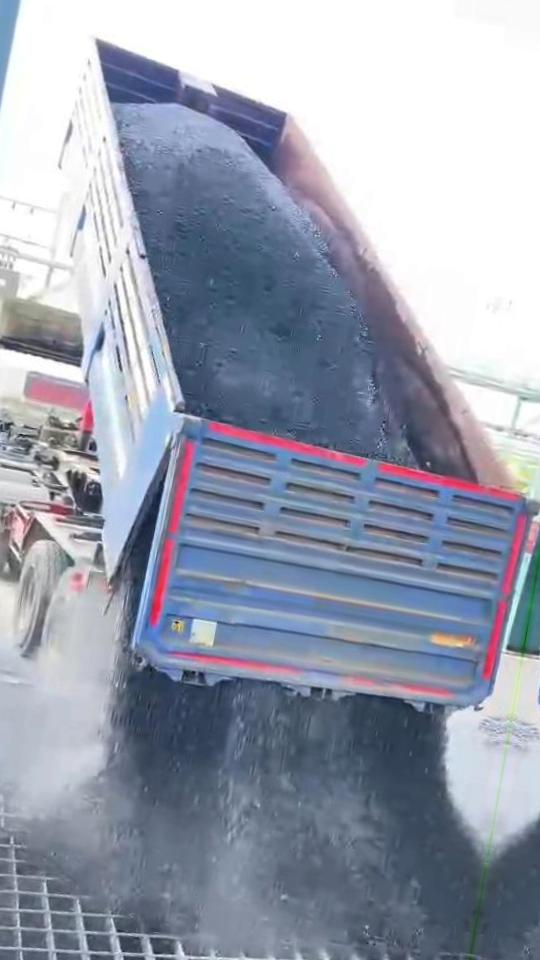gravel: (69, 544, 482, 952), (114, 104, 413, 465)
